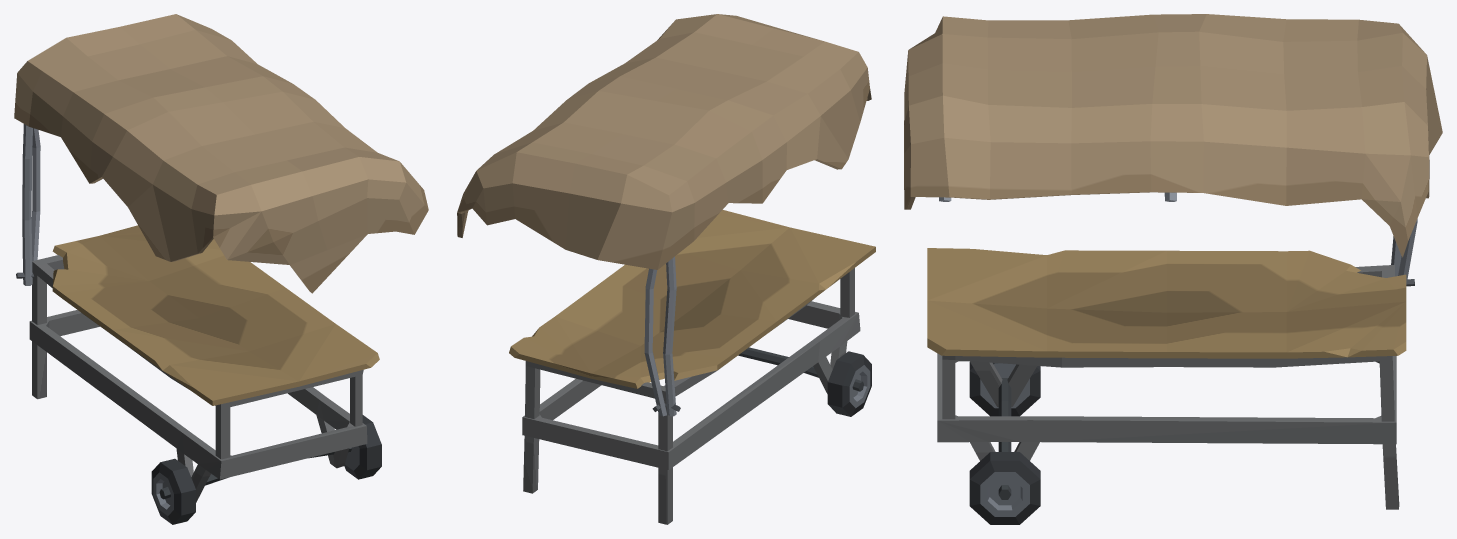
Rendered from SM_Prop_Cart_Stall_01.fbx.
3 views of the same model, side by side, from view 1: azimuth 30°, elevation 25°; view 2: azimuth 150°, elevation 25°; view 3: azimuth 270°, elevation 25° (orthographic). The views are drawn at different scales.
Visible parts, largest first — view 1: SM_Prop_Cart_Stall_01, SM_Prop_Cart_Stall_Wheel_r, SM_Prop_Cart_Stall_Wheel_l; view 2: SM_Prop_Cart_Stall_01, SM_Prop_Cart_Stall_Wheel_r; view 3: SM_Prop_Cart_Stall_01, SM_Prop_Cart_Stall_Wheel_l, SM_Prop_Cart_Stall_Wheel_r.
Part boxes in pixels (x1,y1,x2,y2): SM_Prop_Cart_Stall_01: (14, 14, 428, 502); SM_Prop_Cart_Stall_Wheel_r: (151, 458, 195, 524); SM_Prop_Cart_Stall_Wheel_l: (344, 415, 381, 479); SM_Prop_Cart_Stall_01: (457, 14, 875, 524); SM_Prop_Cart_Stall_Wheel_r: (827, 351, 871, 416); SM_Prop_Cart_Stall_01: (904, 14, 1442, 509); SM_Prop_Cart_Stall_Wheel_l: (969, 452, 1040, 524); SM_Prop_Cart_Stall_Wheel_r: (969, 362, 1040, 416).
Bounding box in the file's own units: 168 × 232 × 272.
